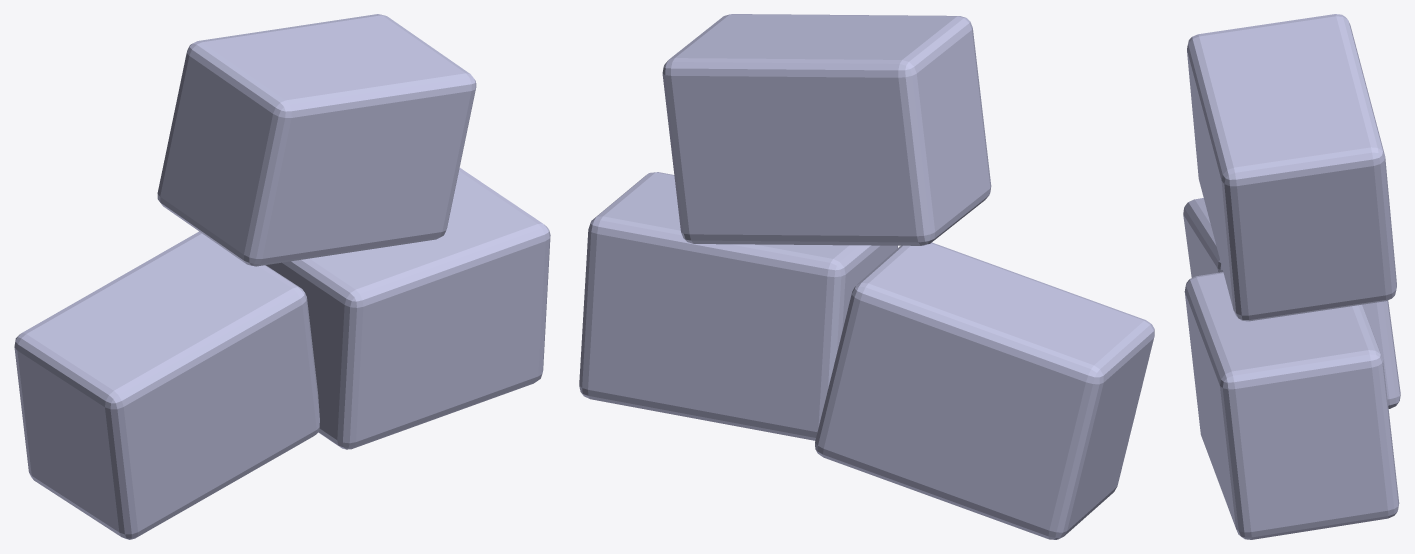
Rendered from ore-11.glb.
The picture shows the model from 3 angles, left to right: view 1: azimuth 30°, elevation 25°; view 2: azimuth 150°, elevation 25°; view 3: azimuth 270°, elevation 25°; orthographic projection. The views are drawn at different scales.
Visible parts, largest first — view 1: Platinium cuboid crystal, Platinium cuboid crystal.002, Platinium cuboid crystal.001; view 2: Platinium cuboid crystal, Platinium cuboid crystal.002, Platinium cuboid crystal.001; view 3: Platinium cuboid crystal.002, Platinium cuboid crystal.001, Platinium cuboid crystal.
Part boxes in pixels (x1,y1,x2,y2): Platinium cuboid crystal: (14, 231, 319, 539); Platinium cuboid crystal.002: (157, 14, 476, 266); Platinium cuboid crystal.001: (266, 168, 550, 449); Platinium cuboid crystal: (815, 242, 1154, 539); Platinium cuboid crystal.002: (662, 14, 991, 245); Platinium cuboid crystal.001: (579, 172, 897, 440); Platinium cuboid crystal.002: (1187, 14, 1396, 321); Platinium cuboid crystal.001: (1184, 272, 1399, 539); Platinium cuboid crystal: (1183, 198, 1400, 408).
Bounding box in the file's own units: 1.46 × 1.21 × 0.5637.
